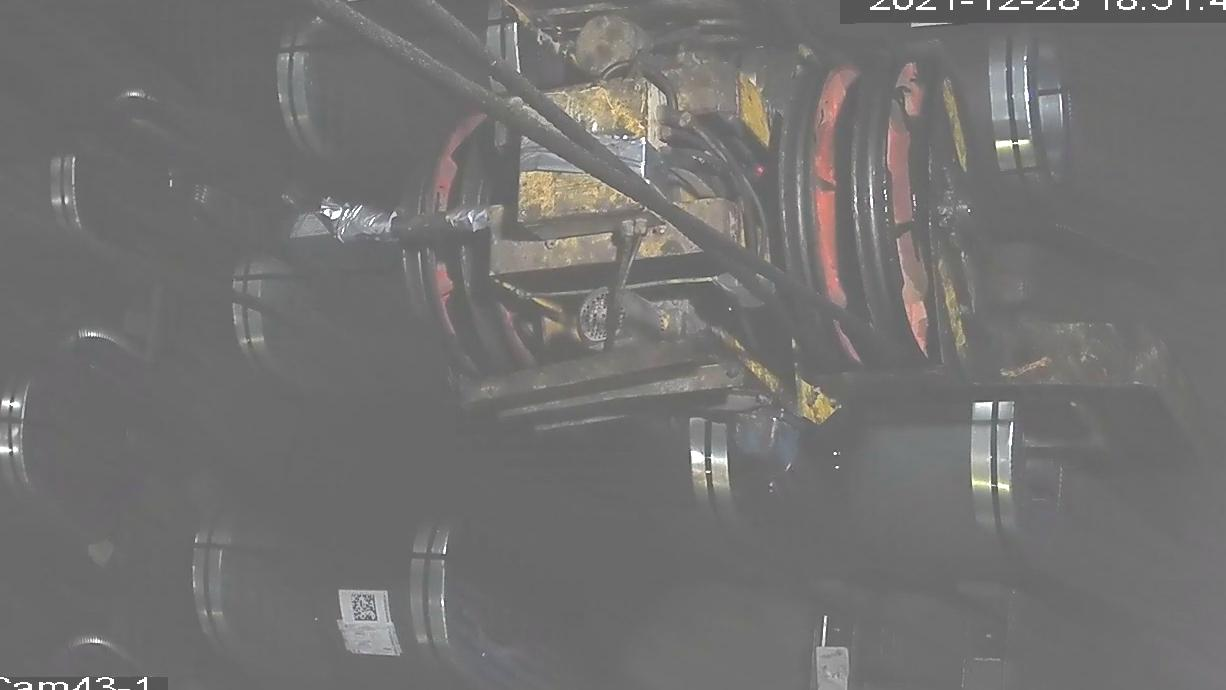data matrix: (349, 591, 383, 624)
